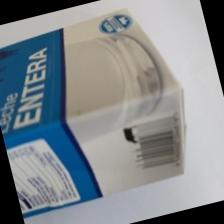Kertas: (0, 9, 185, 216)
